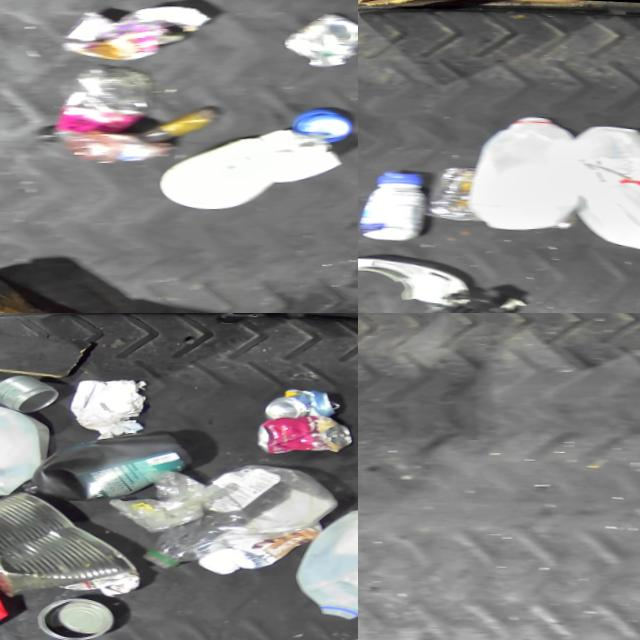can: (0, 481, 147, 602), (254, 407, 357, 454), (286, 4, 358, 64), (37, 591, 123, 640), (261, 381, 345, 419), (0, 369, 62, 413)
milk_jug: (163, 117, 356, 212), (464, 109, 585, 231), (566, 116, 640, 256), (292, 492, 358, 620), (0, 397, 59, 513)
non_white_jug: (21, 418, 202, 504)
plastic_bottle: (142, 452, 348, 574), (37, 58, 163, 145)
